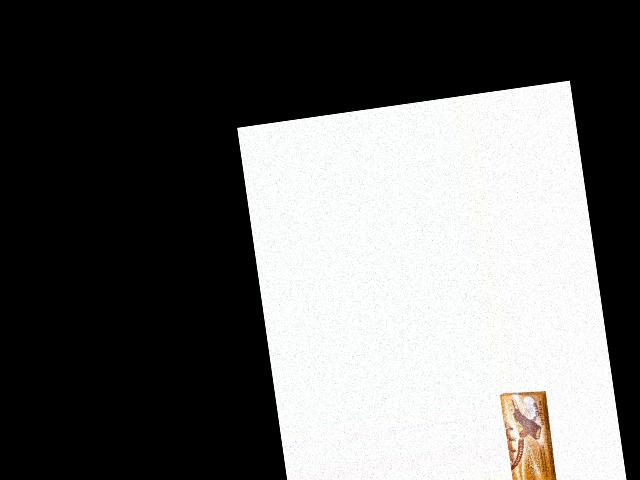chocolate: (498, 386, 559, 480)
